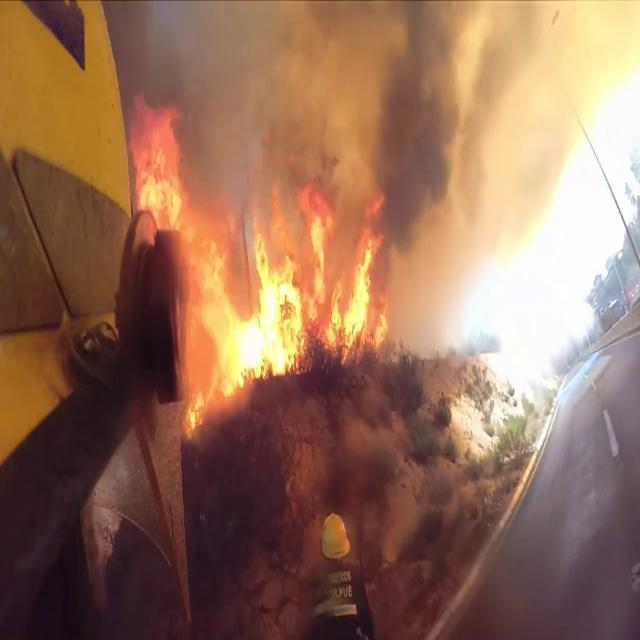Fire: (133, 120, 388, 406)
Smoke: (174, 0, 544, 233)
